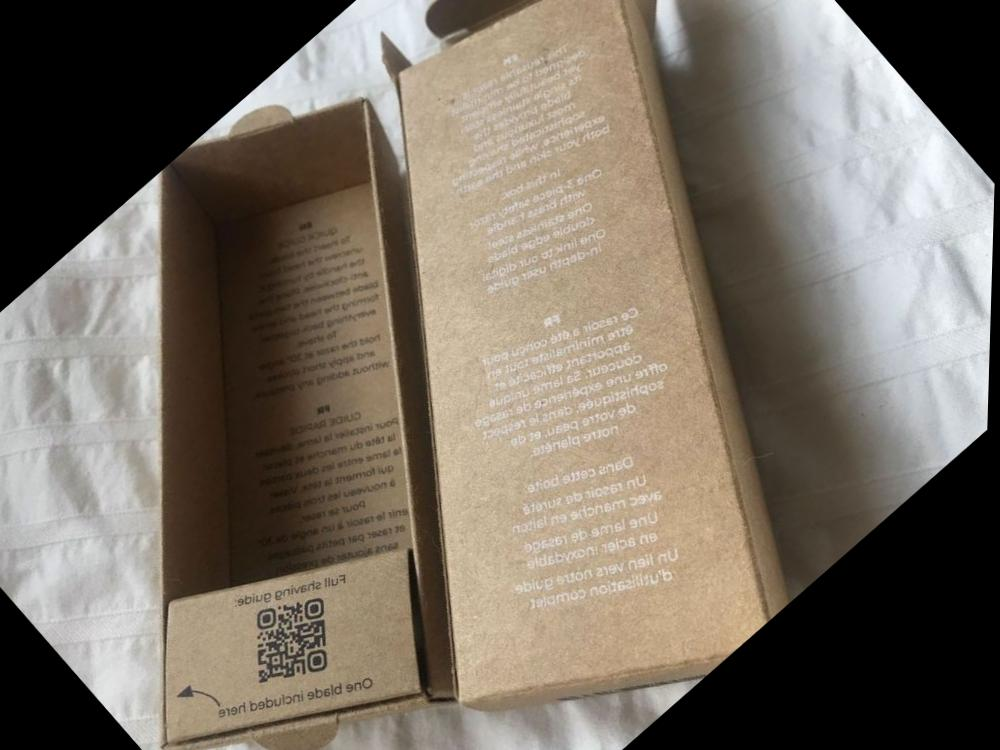cardboard: (87, 0, 1000, 750), (0, 46, 701, 750)
